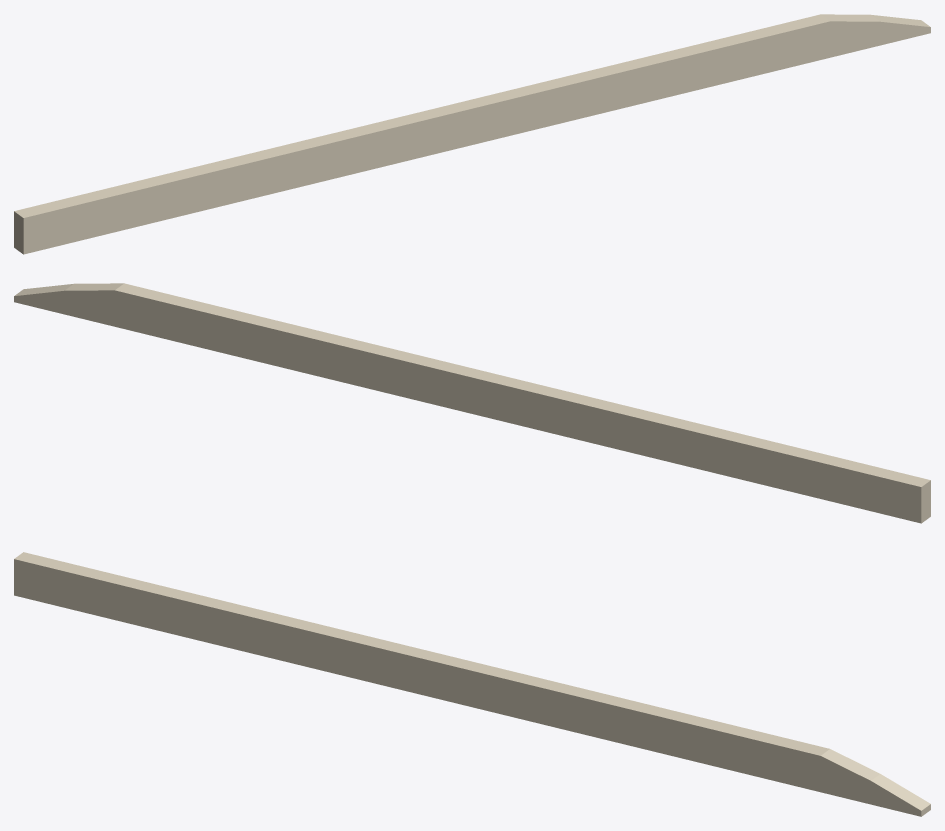
3 renders of one model, top to bottom at view 1: azimuth 30°, elevation 25°; view 2: azimuth 150°, elevation 25°; view 3: azimuth 330°, elevation 25°, orthographic.
Visible parts, largest first — view 1: A-ROOF-INFILL-03; view 2: A-ROOF-INFILL-03; view 3: A-ROOF-INFILL-03.
Part boxes in pixels (x1,y1,x2,y2): A-ROOF-INFILL-03: [14, 14, 930, 254]; A-ROOF-INFILL-03: [14, 283, 930, 523]; A-ROOF-INFILL-03: [14, 552, 930, 816].
Size of the model in its own units: 8.79 by 0.3372 by 0.16.
